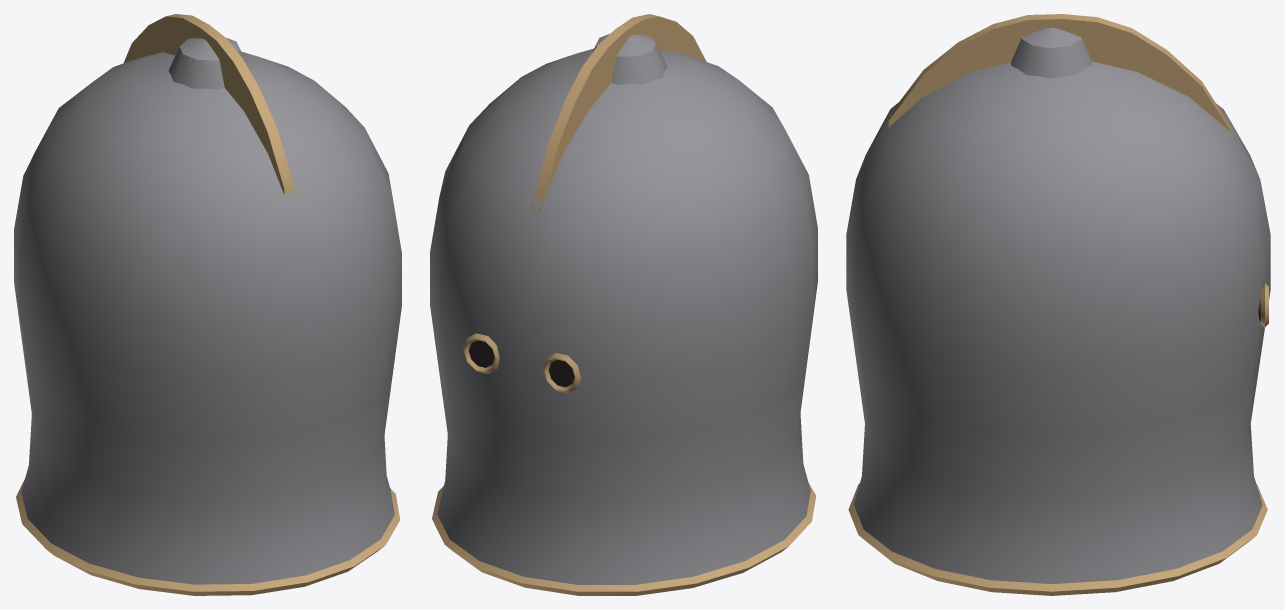
The model's file is secutor.glb.
3 views of the same model, side by side, from view 1: azimuth 30°, elevation 25°; view 2: azimuth 150°, elevation 25°; view 3: azimuth 270°, elevation 25° (orthographic). The views are drawn at different scales.
Visible parts, largest first — view 1: OUT; view 2: OUT; view 3: OUT.
Part boxes in pixels (bbox=[...]): OUT: bbox=[14, 14, 401, 595]; OUT: bbox=[430, 14, 817, 595]; OUT: bbox=[846, 14, 1270, 595].
Size of the model in its own units: 0.264 by 0.3733 by 0.2864.
